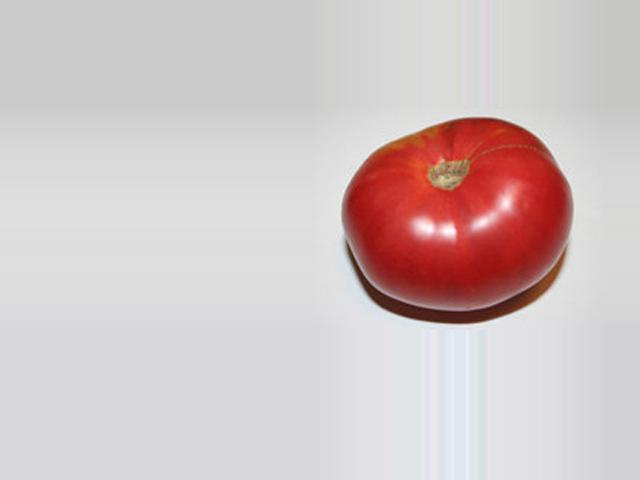tomato: (340, 115, 574, 306)
